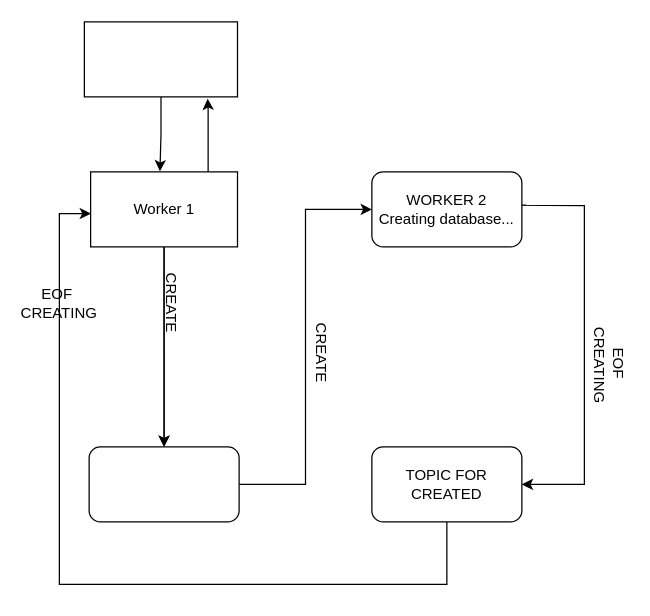
The diagram is 650 pixels wide and 616 high, and some of its shapes have lost their labels. The shapes that lost their labels are listed below. From the top down, each one's centre as x and y in pixels, then its label:
point 160,59: /sse/create_database
point 163,484: TOPIC FOR CREATING
